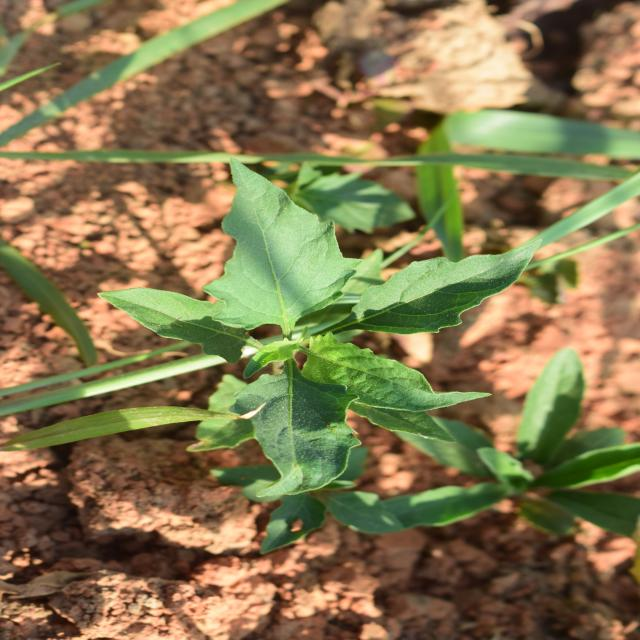Black_nightshade: (214, 134, 492, 479)
